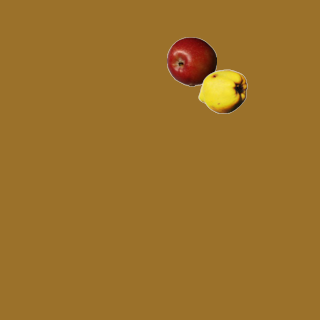Apple Braeburn: (166, 36, 216, 86)
Quince: (197, 66, 247, 116)
